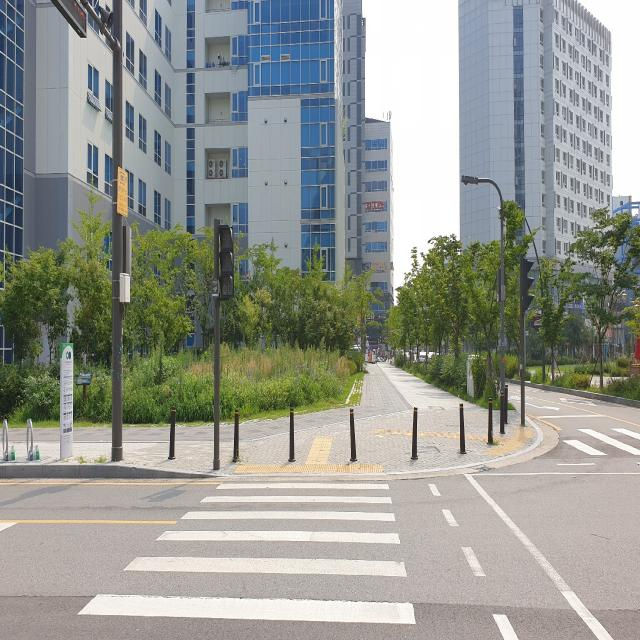횡단보도: (76, 477, 418, 628)
